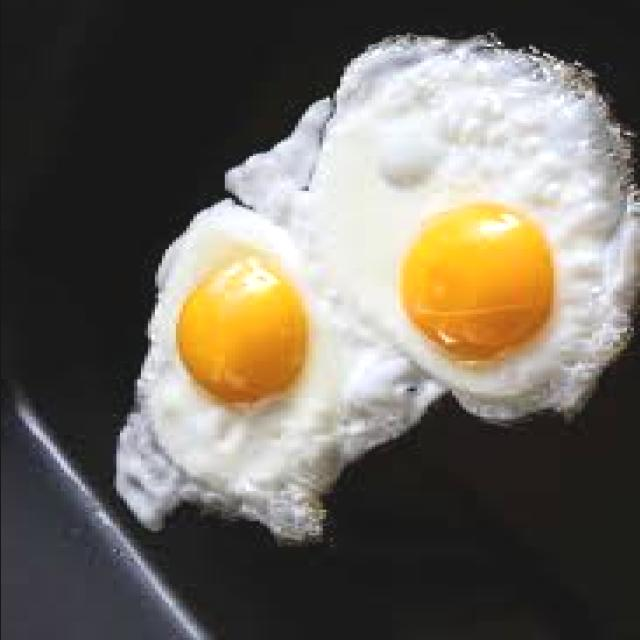telur ceplok: (294, 51, 640, 421), (119, 200, 420, 531)
